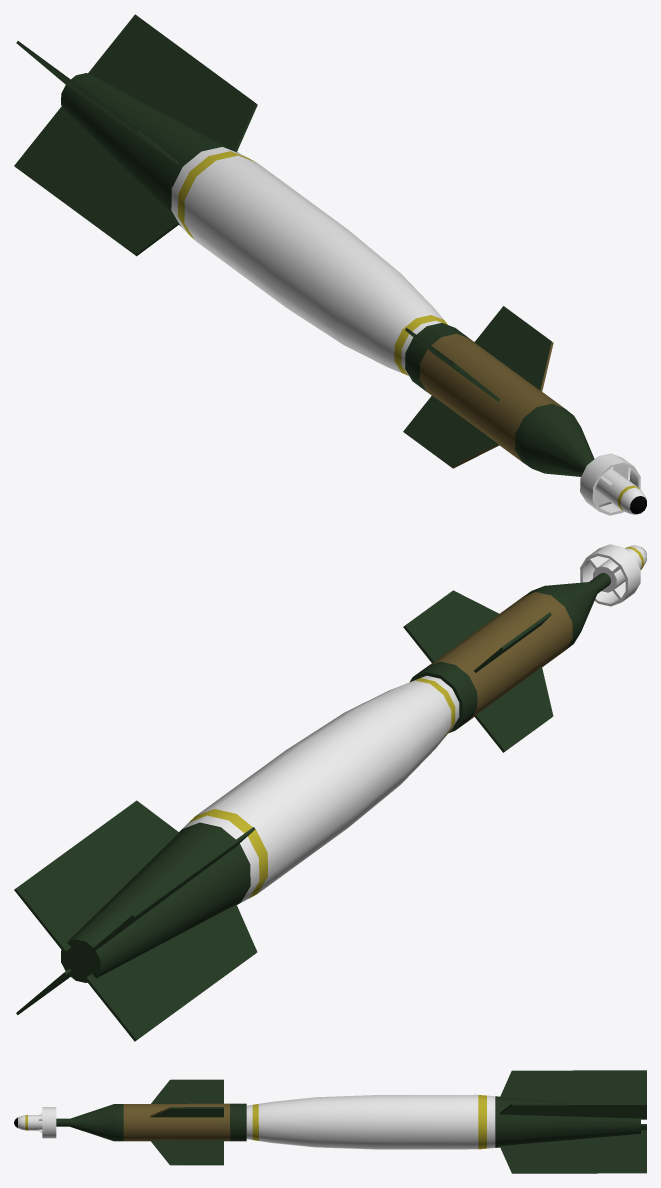
The model's file is GBU16-R_002.fbx.
The picture shows the model from 3 angles, top to bottom: view 1: azimuth 30°, elevation 25°; view 2: azimuth 150°, elevation 25°; view 3: azimuth 270°, elevation 25°; orthographic projection. The views are drawn at different scales.
Parts seen in each view (by area): view 1: GBU-16R; view 2: GBU-16R; view 3: GBU-16R.
Part boxes in pixels (x1=…): GBU-16R: x1=14, y1=14, x2=646, y2=515; GBU-16R: x1=14, y1=544, x2=646, y2=1041; GBU-16R: x1=14, y1=1070, x2=646, y2=1173.
Bounding box in the file's own units: 46.31 × 46.42 × 370.
